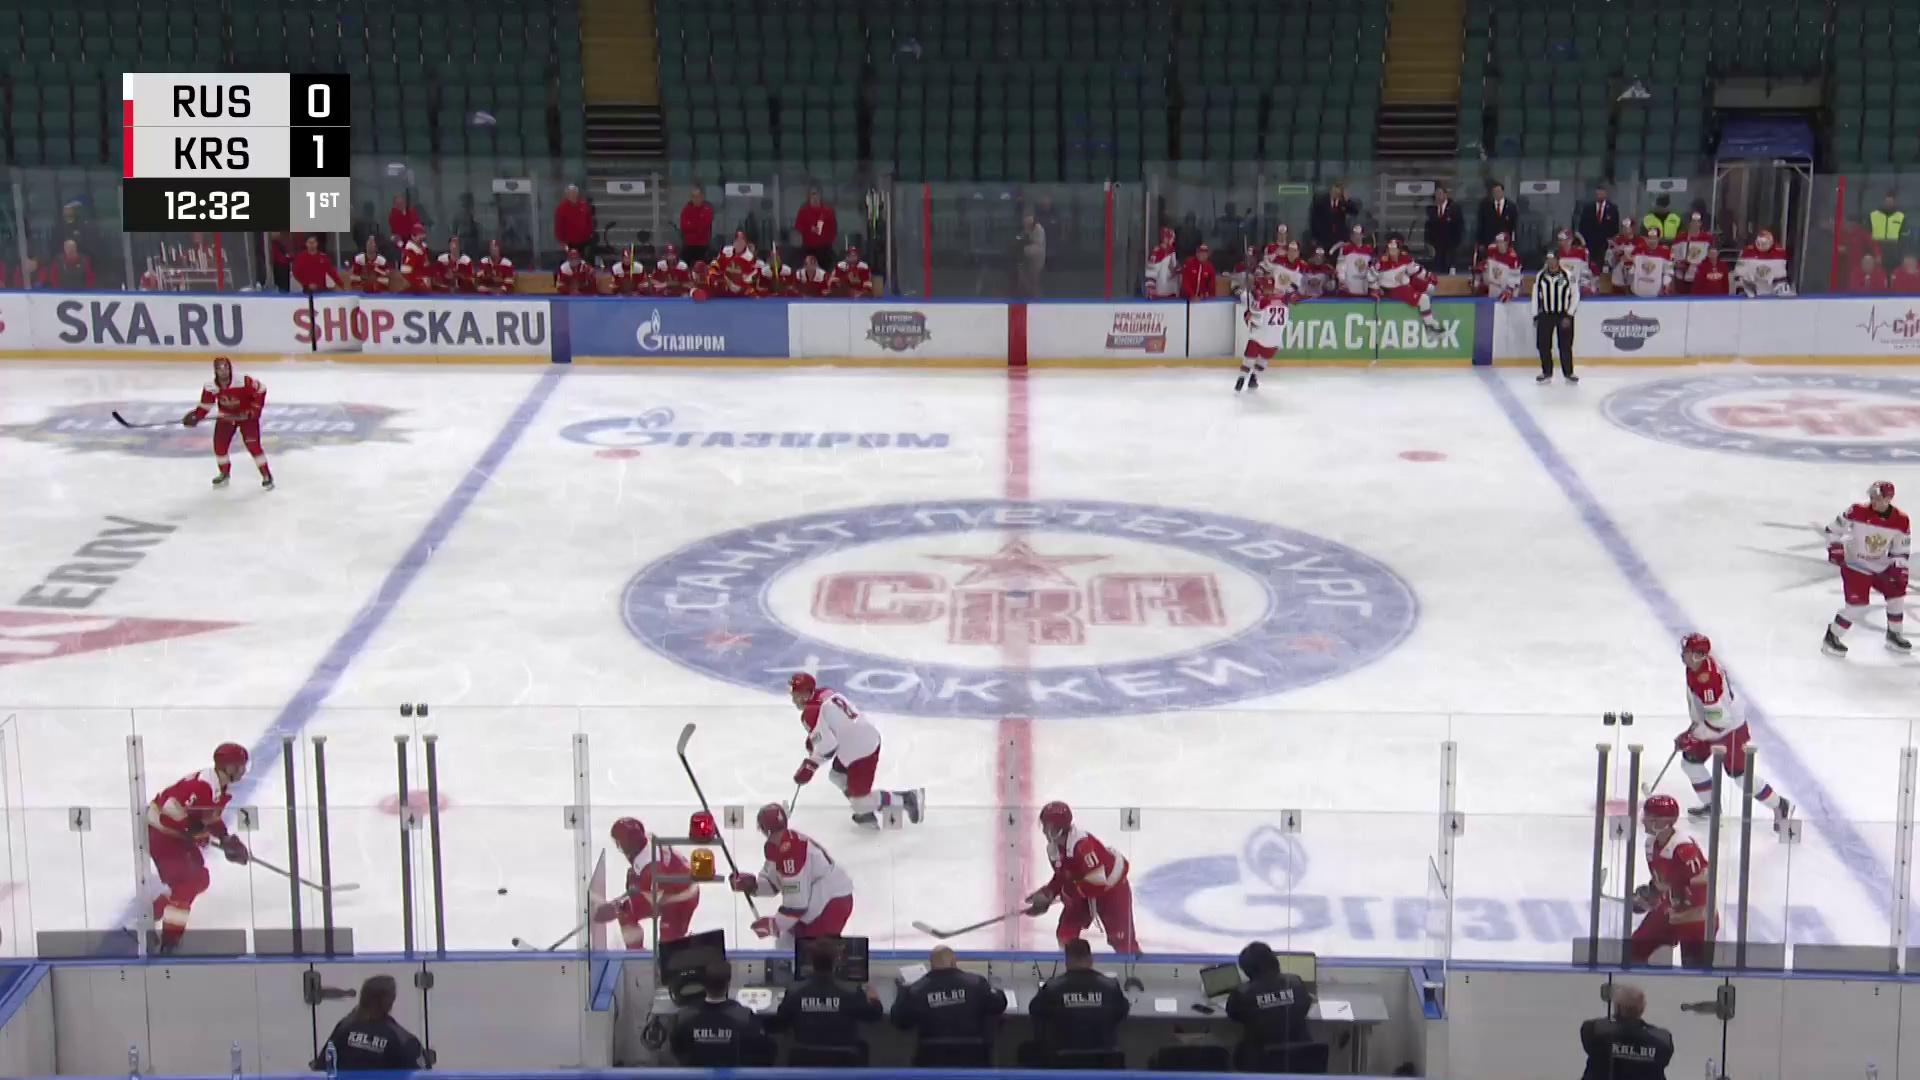ball: (495, 886, 512, 898)
